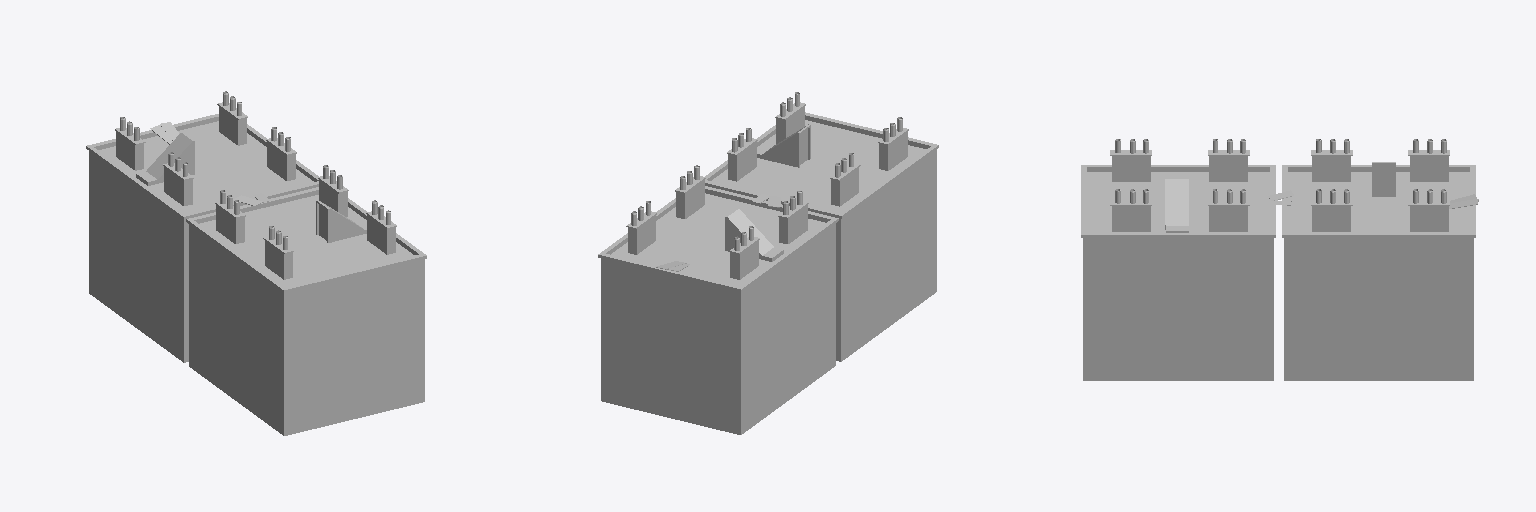
3 renders of one model, left to right at view 1: azimuth 30°, elevation 25°; view 2: azimuth 150°, elevation 25°; view 3: azimuth 270°, elevation 25°, orthographic.
Parts seen in each view (by area): view 1: Main.001_Cube.012, Main_Cube, Cube.001_Cube.015, Cube_Cube.005, Pipe.007_Cube.011, Pipe.002_Cube.003, Pipe.001_Cube.002, Pipe.005_Cube.009, Pipe_Cube.001, Pipe.006_Cube.010, Pipe.003_Cube.004, Pipe.004_Cube.006; view 2: Main_Cube, Main.001_Cube.012, Cube.001_Cube.015, Cube_Cube.005, Pipe.002_Cube.003, Pipe.004_Cube.006, Pipe.001_Cube.002, Pipe.006_Cube.010, Pipe_Cube.001, Pipe.003_Cube.004, Pipe.007_Cube.011, Pipe.005_Cube.009; view 3: Main_Cube, Main.001_Cube.012, Cube.001_Cube.015, Pipe.001_Cube.002, Pipe.006_Cube.010, Pipe_Cube.001, Pipe.002_Cube.003, Pipe.003_Cube.004, Pipe.005_Cube.009, Pipe.007_Cube.011, Pipe.004_Cube.006, Cube_Cube.005.
Boxes of the visible parts, x1=… form: Main.001_Cube.012: x1=186, y1=187, x2=426, y2=435; Main_Cube: x1=86, y1=114, x2=318, y2=362; Cube.001_Cube.015: x1=316, y1=200, x2=366, y2=242; Cube_Cube.005: x1=136, y1=132, x2=194, y2=185; Pipe.007_Cube.011: x1=215, y1=200, x2=245, y2=243; Pipe.002_Cube.003: x1=266, y1=137, x2=296, y2=180; Pipe.001_Cube.002: x1=163, y1=162, x2=193, y2=205; Pipe.005_Cube.009: x1=366, y1=210, x2=396, y2=254; Pipe_Cube.001: x1=115, y1=127, x2=145, y2=170; Pipe.006_Cube.010: x1=263, y1=236, x2=293, y2=279; Pipe.003_Cube.004: x1=217, y1=102, x2=247, y2=145; Pipe.004_Cube.006: x1=318, y1=175, x2=348, y2=216; Main_Cube: x1=598, y1=186, x2=838, y2=434; Main.001_Cube.012: x1=705, y1=112, x2=938, y2=361; Cube.001_Cube.015: x1=757, y1=124, x2=810, y2=167; Cube_Cube.005: x1=725, y1=208, x2=783, y2=261; Pipe.002_Cube.003: x1=675, y1=165, x2=705, y2=218; Pipe.004_Cube.006: x1=727, y1=128, x2=757, y2=181; Pipe.001_Cube.002: x1=778, y1=191, x2=808, y2=243; Pipe.006_Cube.010: x1=878, y1=117, x2=908, y2=170; Pipe_Cube.001: x1=729, y1=226, x2=759, y2=279; Pipe.003_Cube.004: x1=626, y1=201, x2=656, y2=254; Pipe.007_Cube.011: x1=830, y1=153, x2=860, y2=206; Pipe.005_Cube.009: x1=775, y1=92, x2=805, y2=143; Main_Cube: x1=1282, y1=165, x2=1475, y2=380; Main.001_Cube.012: x1=1081, y1=165, x2=1275, y2=380; Cube.001_Cube.015: x1=1165, y1=178, x2=1188, y2=232; Pipe.001_Cube.002: x1=1311, y1=139, x2=1352, y2=181; Pipe.006_Cube.010: x1=1110, y1=139, x2=1151, y2=181; Pipe_Cube.001: x1=1408, y1=139, x2=1449, y2=181; Pipe.002_Cube.003: x1=1311, y1=189, x2=1352, y2=231; Pipe.003_Cube.004: x1=1408, y1=189, x2=1449, y2=231; Pipe.005_Cube.009: x1=1110, y1=189, x2=1151, y2=231; Pipe.007_Cube.011: x1=1208, y1=139, x2=1249, y2=181; Pipe.004_Cube.006: x1=1208, y1=189, x2=1249, y2=231; Cube_Cube.005: x1=1372, y1=162, x2=1395, y2=196.
Bounding box in the file's own units: 6.53 × 7.95 × 15.71.